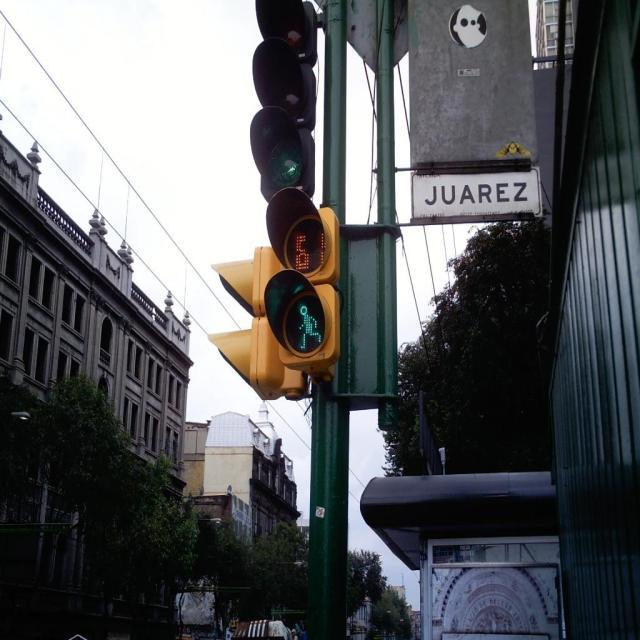off traffic light: (206, 246, 309, 404)
traffic light: (262, 188, 342, 388), (248, 0, 319, 204)
